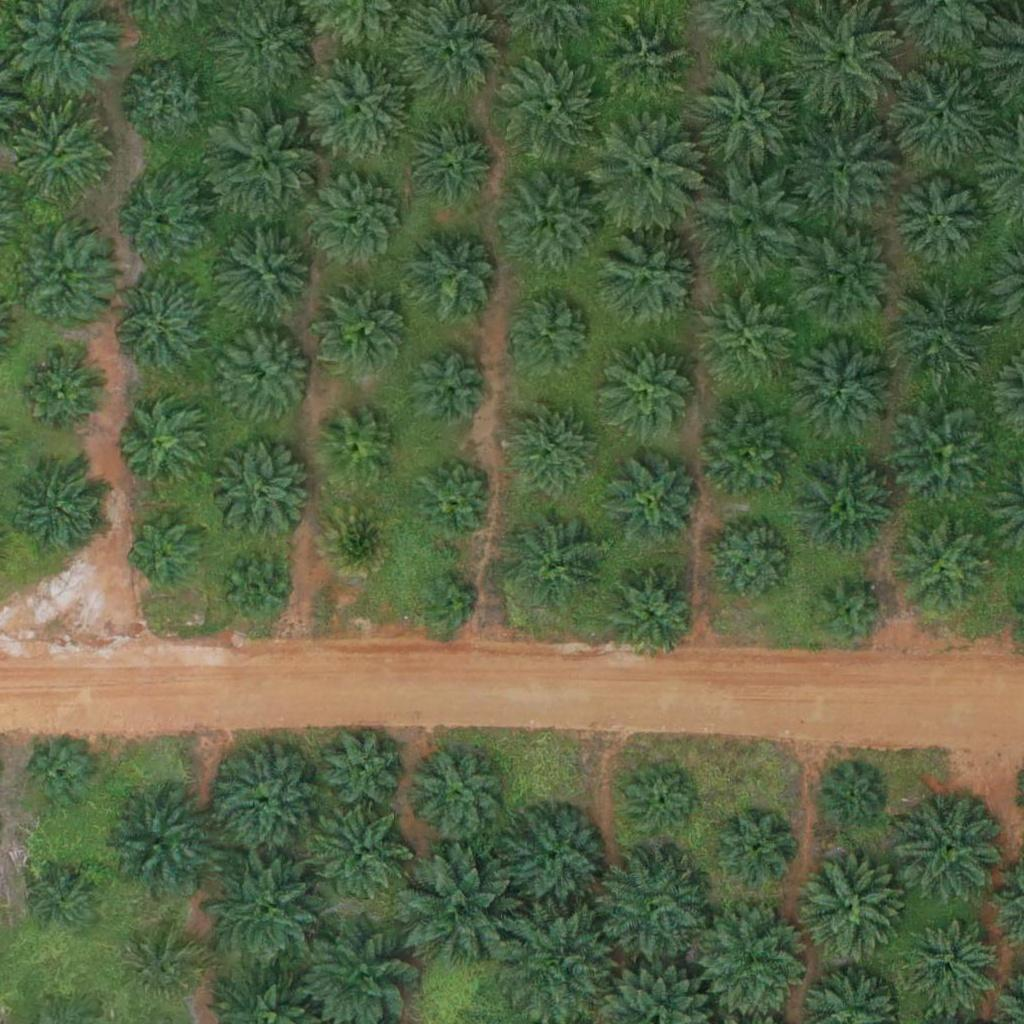Kelapa_Sawit: (96, 782, 221, 908), (203, 843, 328, 969), (395, 846, 520, 972), (786, 3, 899, 116), (785, 108, 898, 221), (688, 57, 801, 170), (696, 905, 809, 1018), (885, 62, 997, 175), (694, 164, 806, 277), (592, 113, 704, 226), (491, 52, 603, 165), (213, 115, 325, 228), (594, 846, 706, 959), (892, 279, 992, 380), (894, 405, 994, 506), (894, 517, 994, 618), (800, 229, 900, 330), (794, 337, 894, 438), (795, 459, 895, 560), (701, 286, 801, 387), (700, 403, 800, 504), (599, 228, 699, 329), (598, 344, 698, 445), (502, 172, 602, 273), (12, 459, 112, 560), (213, 746, 313, 847), (801, 855, 901, 956), (903, 796, 1003, 897), (897, 917, 997, 1018), (601, 561, 701, 661), (507, 511, 607, 611), (309, 57, 409, 157), (307, 168, 407, 268), (11, 107, 111, 207), (15, 239, 115, 339), (217, 325, 317, 425), (213, 443, 313, 543), (312, 803, 412, 903), (502, 809, 602, 909), (602, 14, 690, 103), (706, 517, 794, 605), (320, 288, 408, 376), (223, 228, 311, 316), (24, 349, 112, 437), (894, 181, 981, 269), (611, 457, 698, 545), (505, 288, 592, 376), (507, 400, 594, 488), (404, 118, 491, 206), (410, 237, 497, 325), (125, 59, 212, 147), (126, 177, 213, 265), (117, 283, 204, 371), (123, 402, 210, 490), (318, 724, 405, 812), (412, 750, 499, 838), (320, 413, 395, 489), (410, 352, 485, 428), (623, 767, 698, 843), (812, 576, 887, 652), (417, 461, 492, 537), (321, 502, 396, 578), (219, 551, 294, 627), (127, 930, 202, 1005), (720, 811, 795, 886), (129, 510, 204, 585), (21, 736, 96, 811), (24, 866, 99, 941), (821, 765, 884, 828), (419, 574, 481, 637)
